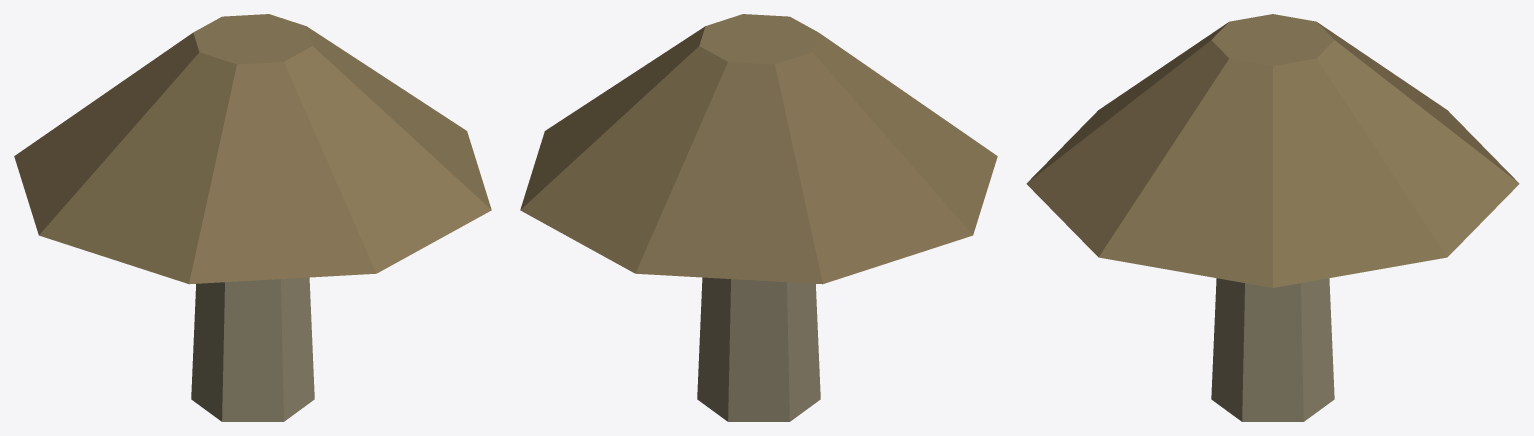
The model's file is forest-mushroom-1.glb.
The picture shows the model from 3 angles, left to right: view 1: azimuth 30°, elevation 25°; view 2: azimuth 150°, elevation 25°; view 3: azimuth 270°, elevation 25°; orthographic projection.
Visible parts, largest first — view 1: forest-mushroom-1; view 2: forest-mushroom-1; view 3: forest-mushroom-1.
Boxes of the visible parts, bbox=[...] form: forest-mushroom-1: bbox=[14, 14, 491, 421]; forest-mushroom-1: bbox=[520, 14, 997, 421]; forest-mushroom-1: bbox=[1026, 14, 1519, 421].
Size of the model in its own units: 0.28 by 0.225 by 0.28.
